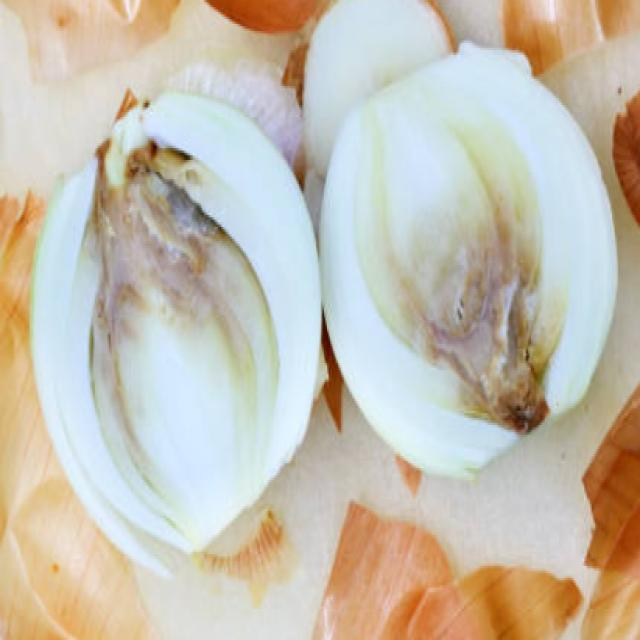rotten: (98, 162, 237, 294), (447, 292, 537, 408)
